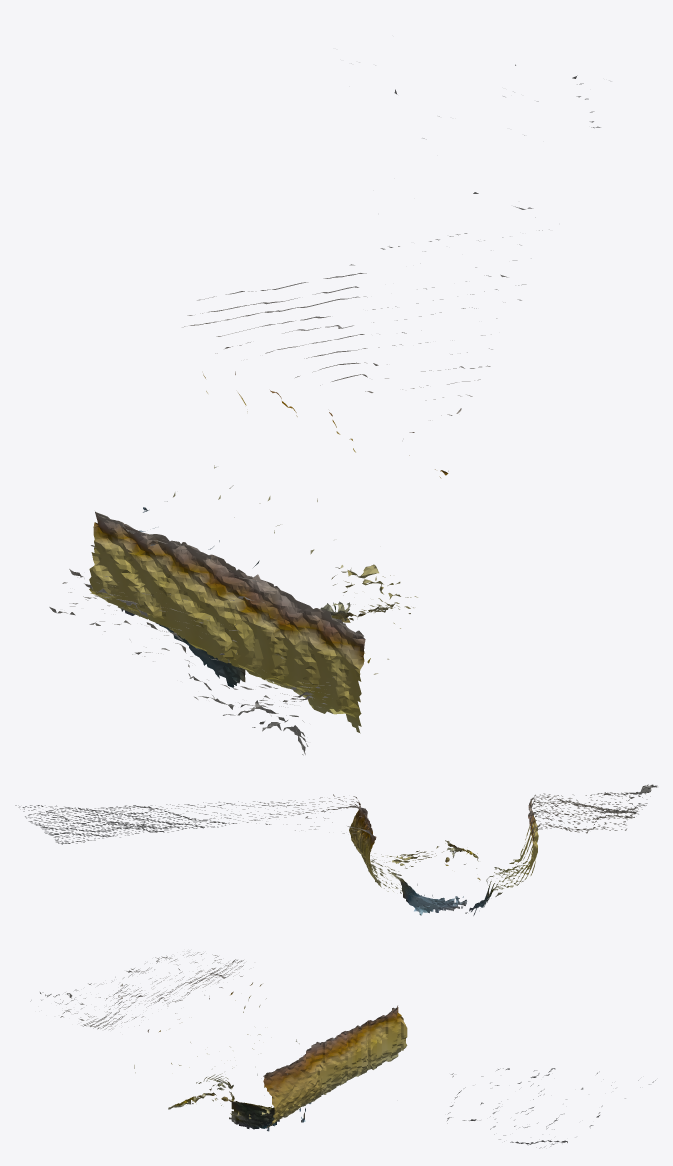
File: reconstructed_mesh_frame000005.glb
3 renders of one model, top to bottom at view 1: azimuth 30°, elevation 25°; view 2: azimuth 150°, elevation 25°; view 3: azimuth 270°, elevation 25°, orthographic. The views are drawn at different scales.
Parts seen in each view (by area): view 1: world; view 2: world; view 3: world.
Part boxes in pixels (<box>): world: <box>49,62,611,755</box>; world: <box>15,784,657,915</box>; world: <box>30,951,655,1148</box>.
Size of the model in its own units: 0.1135 by 0.0348 by 0.1275.
